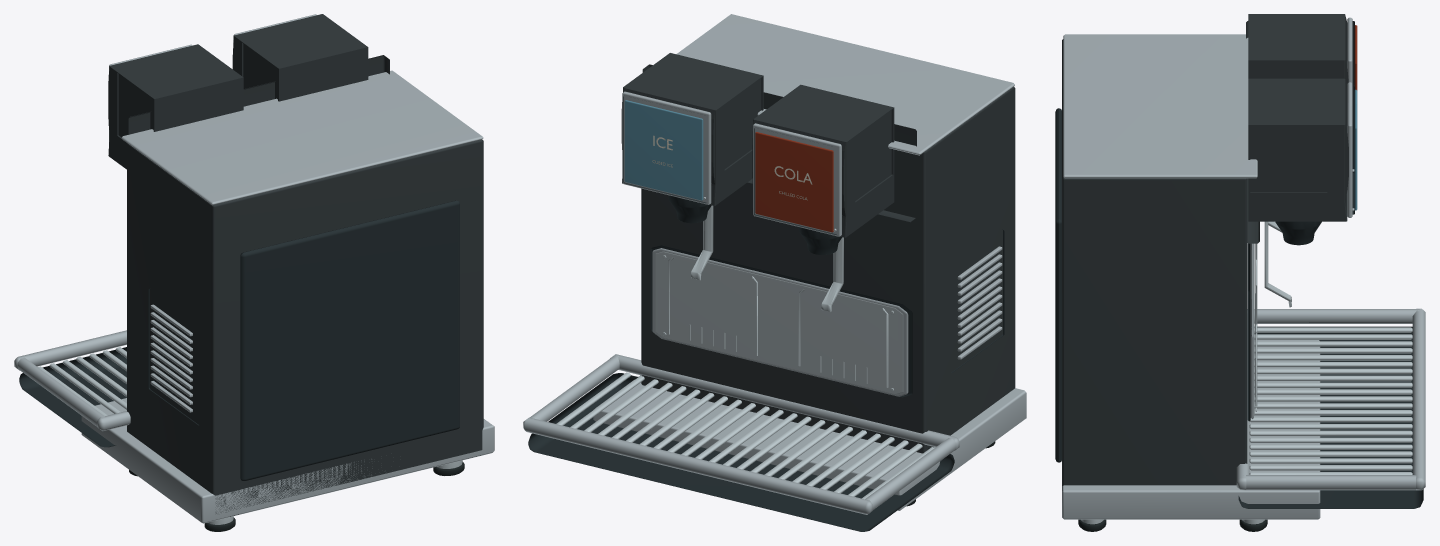
File: pop_machine.glb
3 views of the same model, side by side, from view 1: azimuth 30°, elevation 25°; view 2: azimuth 150°, elevation 25°; view 3: azimuth 270°, elevation 25° (orthographic). The views are drawn at different scales.
Parts seen in each view (by area): view 1: Pop Commercial | squared cabinet, Rear service panel, Pop Commercial | flat top cover, cola V5 | deep square ORIGINAL housing, Lower chrome bumper, ice V5 | deep square ORIGINAL housing, Pop | drip pan, Pop | tray end rim.001, Pop Original V5 | valve mounting bridge, Pop | tray side rim; view 2: Pop Commercial | squared cabinet, Pop V3 | satin splash liner, Pop Commercial | flat top cover, Pop | drip pan, Lower chrome bumper, cola V5 | deep square ORIGINAL housing, ice V5 | deep square ORIGINAL housing, FlavorChip_ice, FlavorChip_cola, Pop | tray end rim.001, Pop | tray end rim, Pop V3 | rolled liner perimeter (+10 smaller); view 3: Pop Commercial | squared cabinet, Pop Commercial | flat top cover, ice V5 | deep square ORIGINAL housing, Lower chrome bumper, Pop | drip pan, cola V5 | deep square ORIGINAL housing, Pop | tray side rim.001, Rear service panel, Pop | tray end rim.001, Pop | tray side rim, Pop | removable grate bar.015, Pop | removable grate bar.006 (+27 smaller).
Part boxes in pixels (x1,y1,x2,y2): Pop Commercial | squared cabinet: [127, 139, 483, 513]; Rear service panel: [240, 200, 459, 480]; Pop Commercial | flat top cover: [121, 70, 483, 205]; cola V5 | deep square ORIGINAL housing: [108, 44, 243, 169]; Lower chrome bumper: [81, 398, 494, 523]; ice V5 | deep square ORIGINAL housing: [232, 14, 368, 101]; Pop | drip pan: [19, 347, 126, 447]; Pop | tray end rim.001: [14, 330, 126, 370]; Pop Original V5 | valve mounting bridge: [128, 55, 389, 134]; Pop | tray side rim: [17, 356, 105, 426]; Pop Commercial | squared cabinet: [641, 87, 1015, 453]; Pop V3 | satin splash liner: [655, 251, 903, 394]; Pop Commercial | flat top cover: [676, 14, 1014, 155]; Pop | drip pan: [528, 373, 954, 531]; Lower chrome bumper: [593, 375, 1026, 510]; cola V5 | deep square ORIGINAL housing: [752, 84, 894, 237]; ice V5 | deep square ORIGINAL housing: [621, 53, 763, 205]; FlavorChip_ice: [624, 100, 703, 200]; FlavorChip_cola: [755, 132, 833, 232]; Pop | tray end rim.001: [523, 417, 872, 514]; Pop | tray end rim: [610, 354, 959, 451]; Pop V3 | rolled liner perimeter: [652, 248, 908, 396]; Pop Commercial | squared cabinet: [1062, 39, 1247, 485]; Pop Commercial | flat top cover: [1063, 34, 1257, 178]; ice V5 | deep square ORIGINAL housing: [1248, 78, 1348, 221]; Lower chrome bumper: [1062, 340, 1320, 519]; Pop | drip pan: [1238, 326, 1423, 508]; cola V5 | deep square ORIGINAL housing: [1248, 14, 1348, 86]; Pop | tray side rim.001: [1246, 475, 1416, 490]; Rear service panel: [1055, 108, 1061, 462]; Pop | tray end rim.001: [1412, 308, 1425, 490]; Pop | tray side rim: [1247, 309, 1419, 323]; Pop | removable grate bar.015: [1249, 430, 1412, 436]; Pop | removable grate bar.006: [1254, 368, 1412, 374].
Size of the model in its own units: 0.75 by 0.8051 by 0.6818.
Materials: 9 (1 with a texture image).
